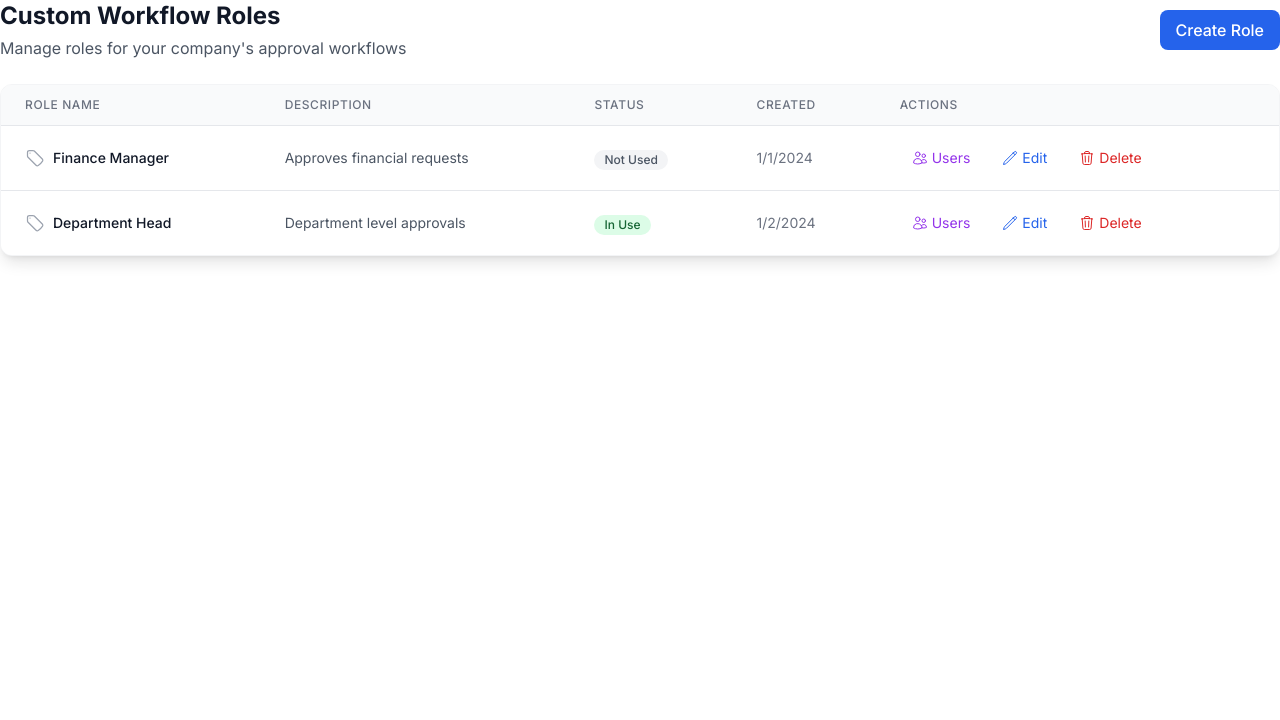
Test: RoleManagement - Role Deletion with Protection › Confirmation Dialog › should show confirmation dialog when Delete button is clicked
Expected: the text "Finance Manager" is shown, top-left (53, 148), bottom-right (169, 168)
Click the button "Delete" in the row of "Finance Manager". click: (1110, 158)
box: top-left (1067, 142), bottom-right (1154, 174)
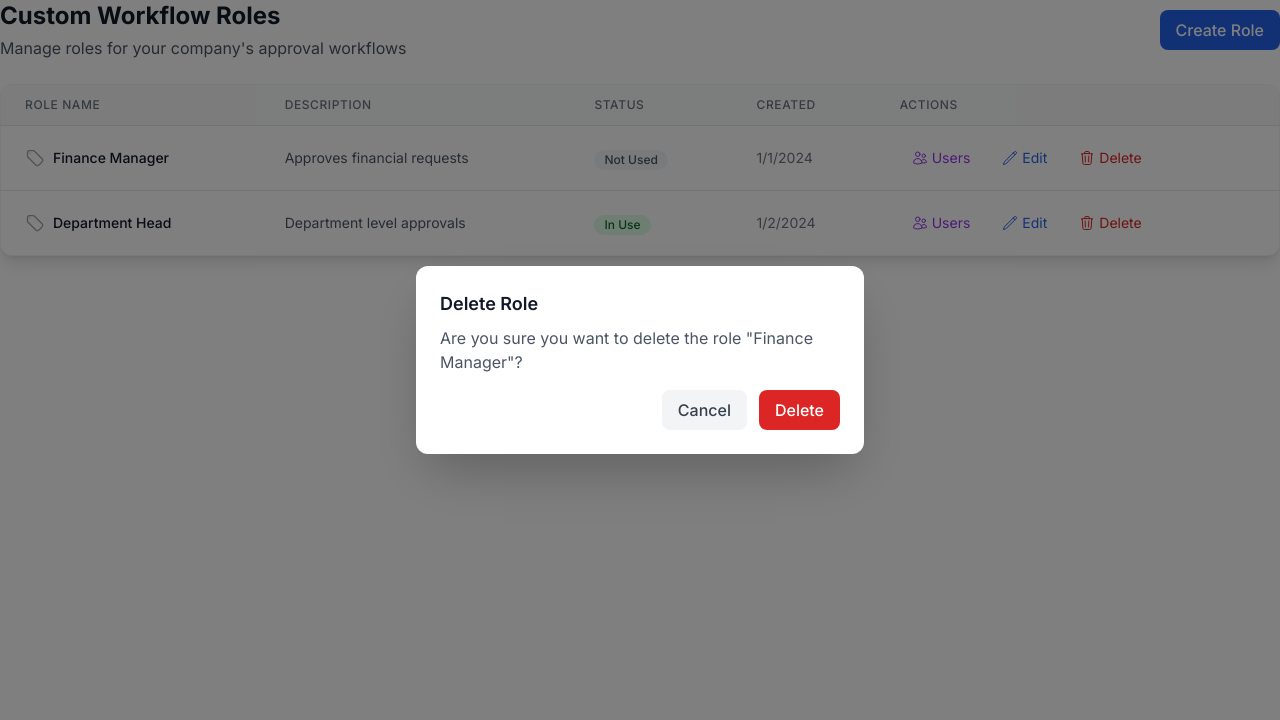
Result: the heading "Delete Role" is shown at top-left (440, 293), bottom-right (538, 314)
Result: the text "Are you sure you want to delete the role \"Finance Manager\"?" is shown at top-left (440, 326), bottom-right (840, 374)
Result: the button "Cancel" is shown at top-left (662, 390), bottom-right (747, 430)
